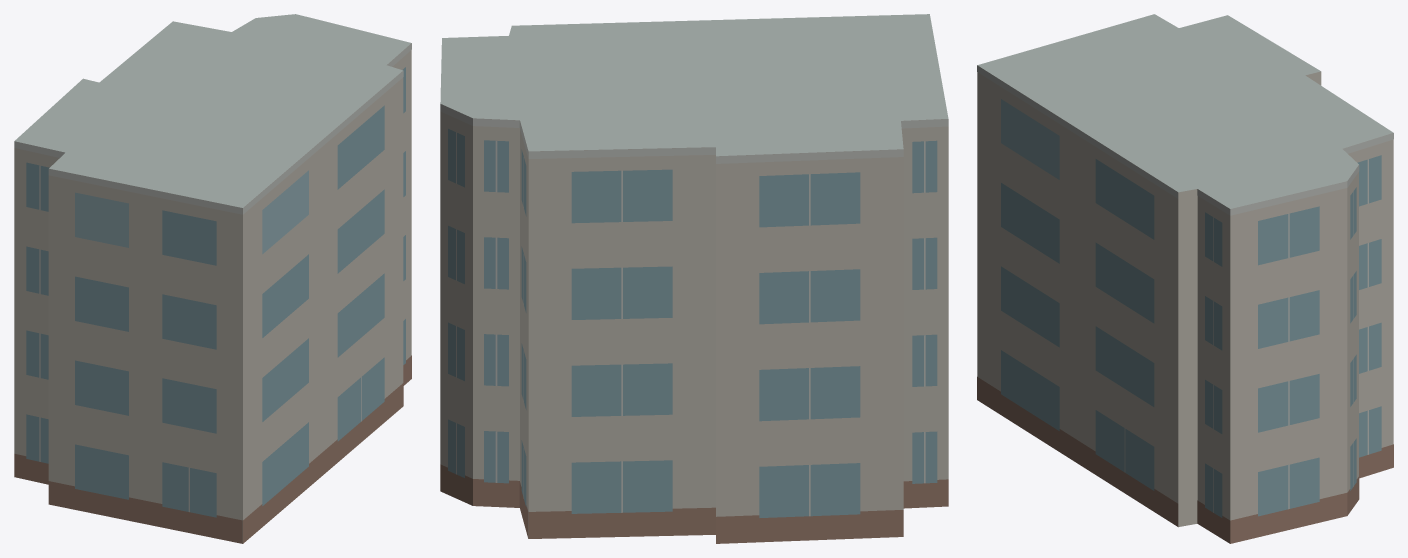
The model's file is survey-upis-32776648.glb.
3 renders of one model, left to right at view 1: azimuth 30°, elevation 25°; view 2: azimuth 150°, elevation 25°; view 3: azimuth 270°, elevation 25°, orthographic. The views are drawn at different scales.
Visible parts, largest first — view 1: survey-upis-32776648.tmp; view 2: survey-upis-32776648.tmp; view 3: survey-upis-32776648.tmp.
Boxes of the visible parts, x1=… form: survey-upis-32776648.tmp: x1=14, y1=14, x2=411, y2=543; survey-upis-32776648.tmp: x1=440, y1=14, x2=948, y2=543; survey-upis-32776648.tmp: x1=977, y1=14, x2=1393, y2=543.
Bounding box in the file's own units: 15.25 × 12.2 × 13.76.
